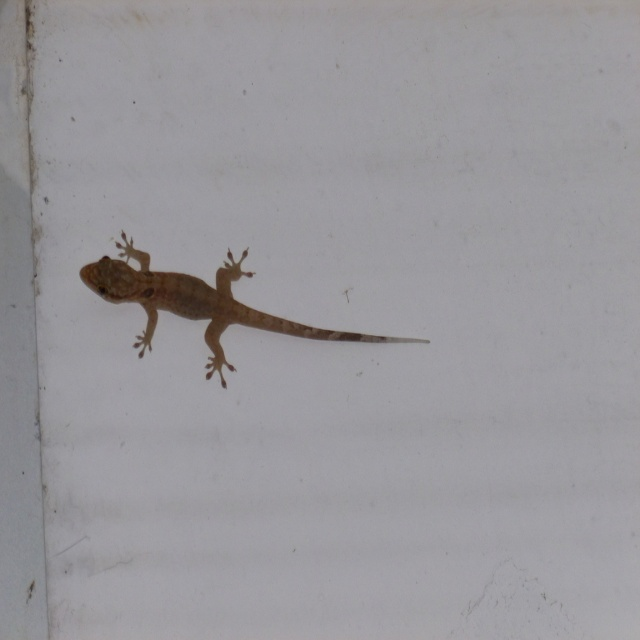Lizard: (82, 233, 428, 386)
